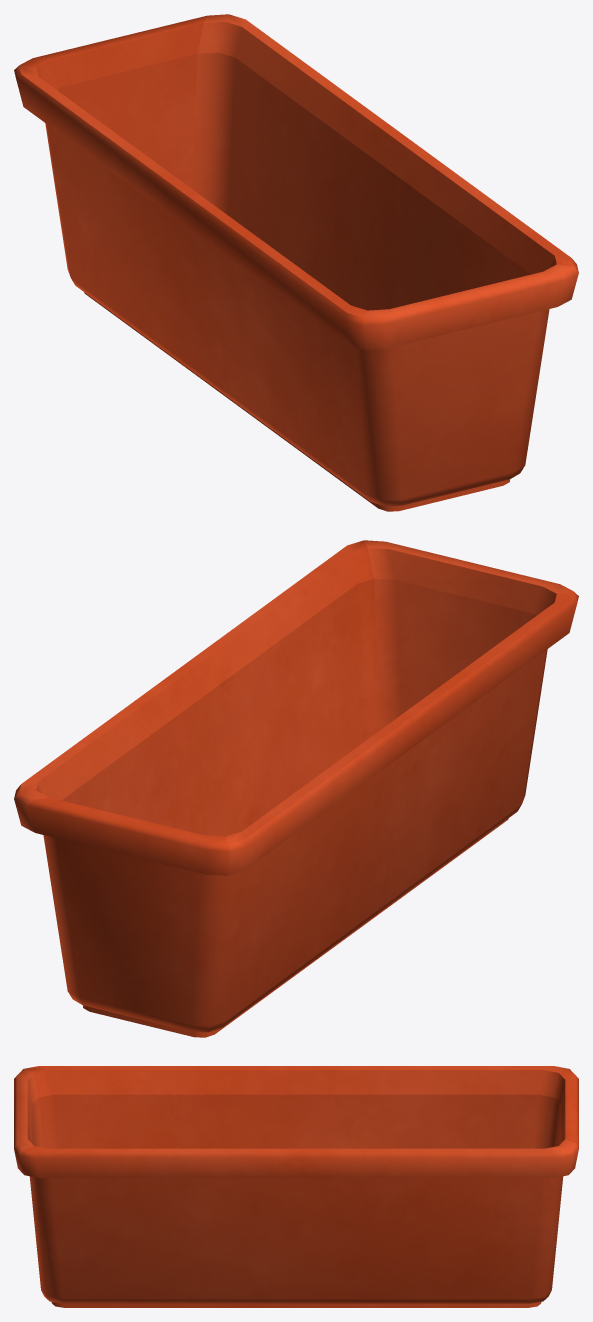
File: plant-pod -01.fbx
3 views of the same model, one above another, from view 1: azimuth 30°, elevation 25°; view 2: azimuth 150°, elevation 25°; view 3: azimuth 270°, elevation 25° (orthographic). The views are drawn at different scales.
Visible parts, largest first — view 1: plant_pod_01_plastic_03_0; view 2: plant_pod_01_plastic_03_0; view 3: plant_pod_01_plastic_03_0.
Part boxes in pixels (x1,y1,x2,y2): plant_pod_01_plastic_03_0: (14,14,578,511); plant_pod_01_plastic_03_0: (14,540,578,1037); plant_pod_01_plastic_03_0: (14,1066,578,1307).
Bounding box in the file's own units: 6.05 × 5.49 × 16.22.
